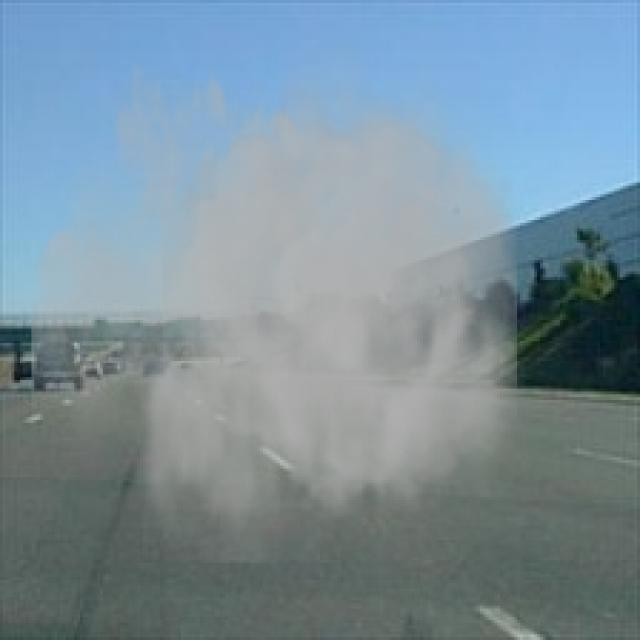smoke: (31, 11, 548, 563)
